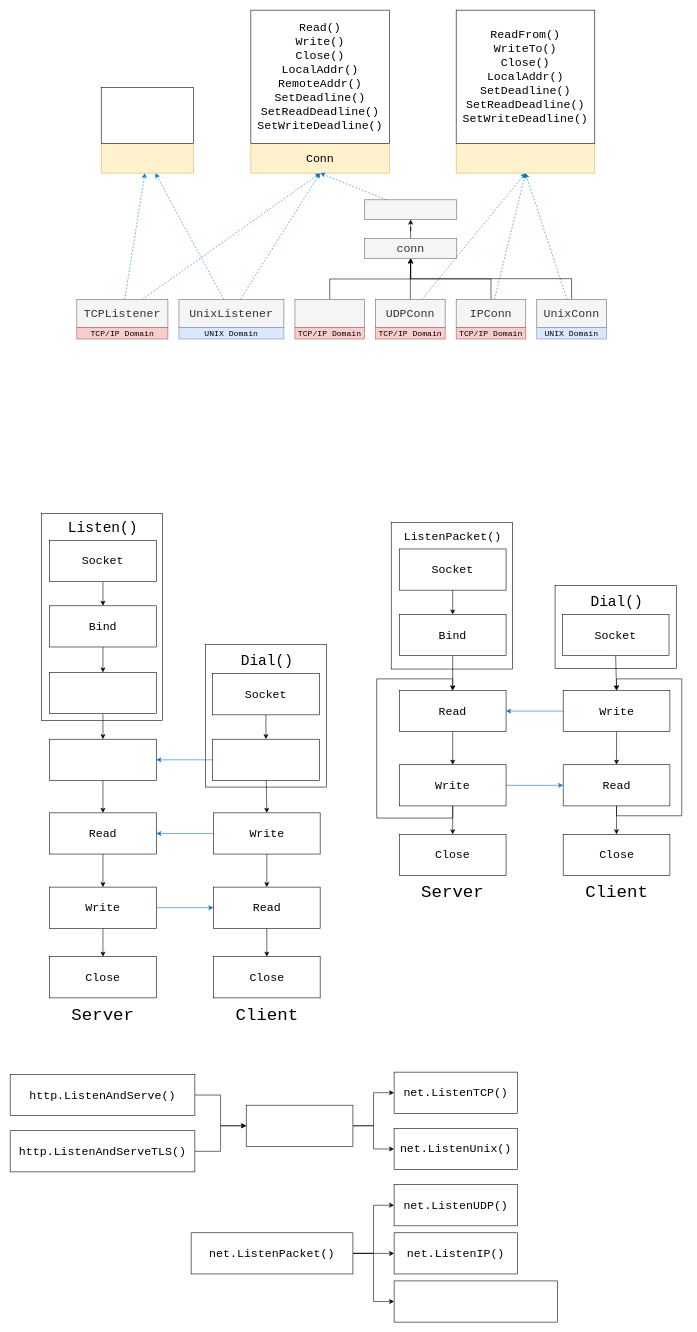
The diagram is 697 pixels wide and 1332 high, and some of its shapes have lost their labels. The centre of each missing label's shape, as x and y in pixels:
"Accept" belongs at point (102, 759).
"Accept() Close() Addr()" belongs at point (147, 115).
"Connect" belongs at point (265, 759).
"Listen" belongs at point (102, 693).
"Listener" belongs at point (147, 158).
"net.Listen()" belongs at point (299, 1125).
"net.ListenUnixgram()" belongs at point (476, 1301).
"netfd" belongs at point (410, 209).
"PacketConn" belongs at point (525, 158).
"TCPConn" belongs at point (329, 313).
